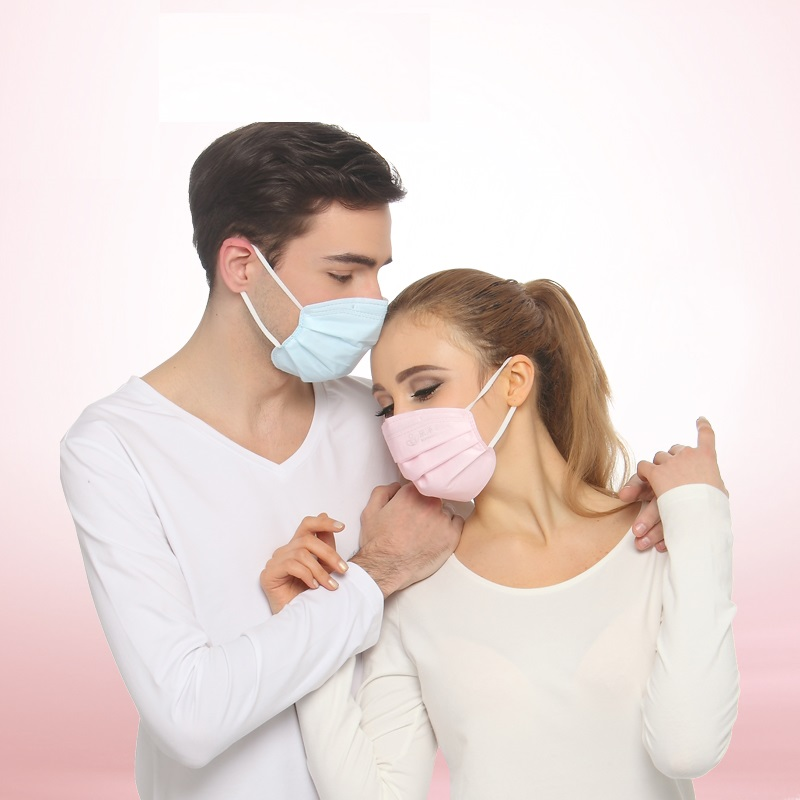face_mask: (256, 196, 391, 377), (370, 319, 503, 499)
